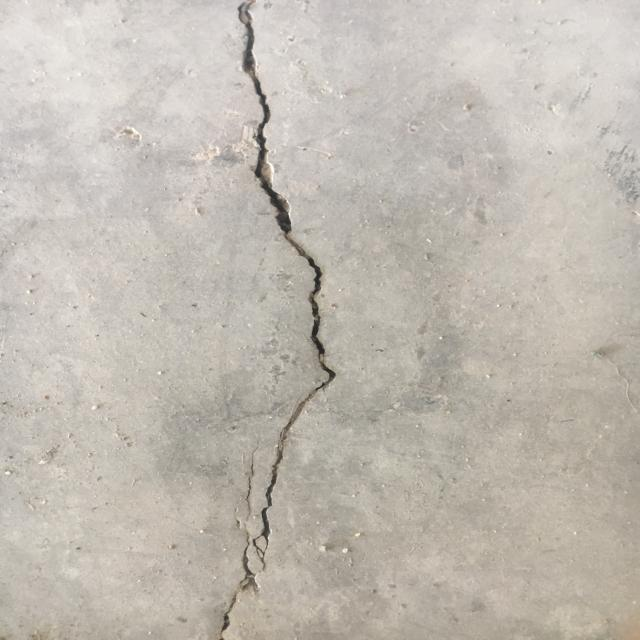Rachadura: (209, 0, 339, 640)
